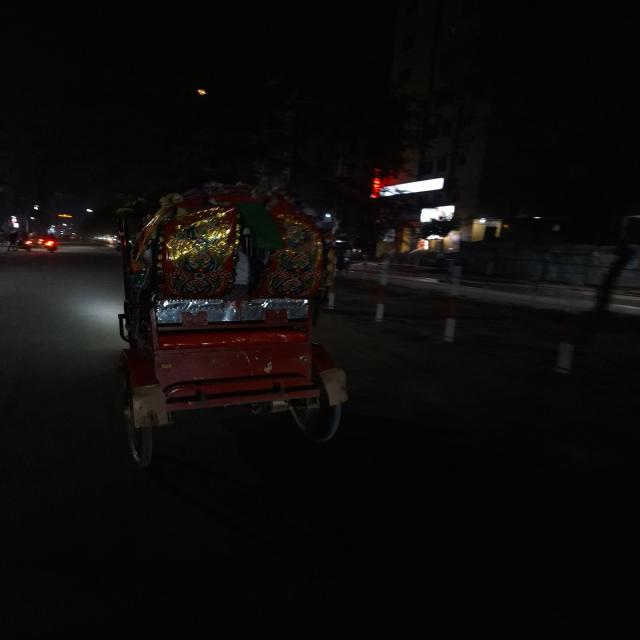car: (19, 232, 63, 256)
rickshaw: (111, 195, 350, 475)
